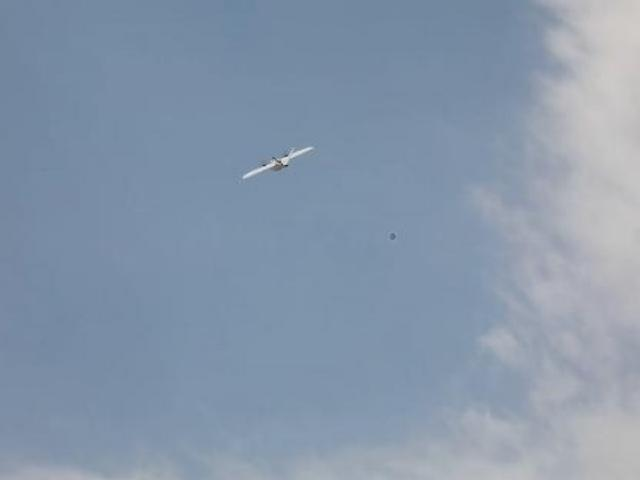uav: (240, 142, 314, 179)
